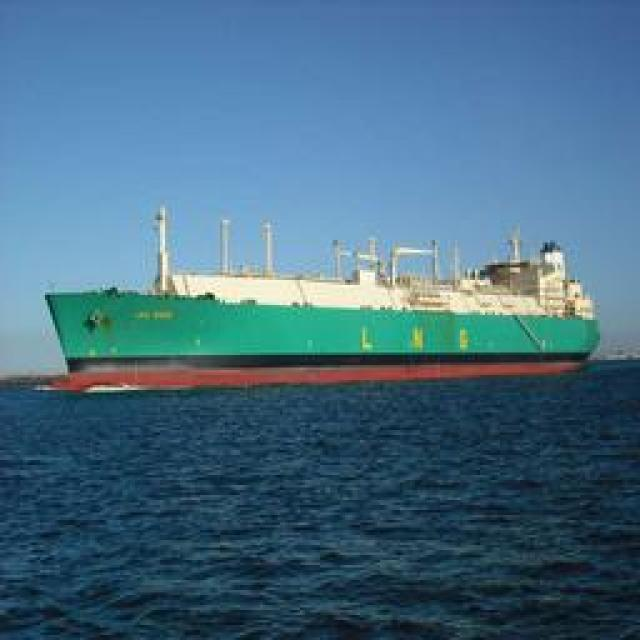CIV_Ship: (35, 208, 598, 372)
